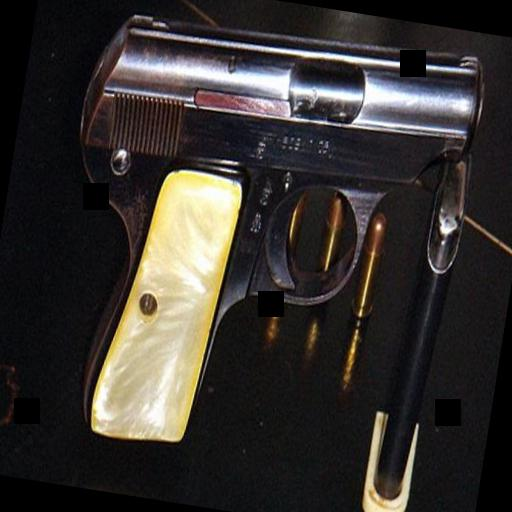Handgun: (38, 0, 489, 478)
